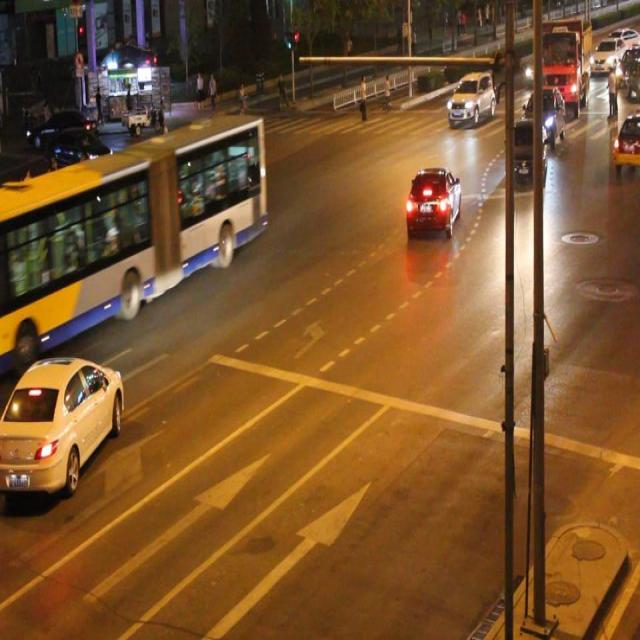car: (0, 358, 124, 494), (404, 165, 459, 240), (74, 204, 135, 268), (504, 122, 545, 186), (612, 114, 640, 169)
van: (1, 116, 264, 365)
